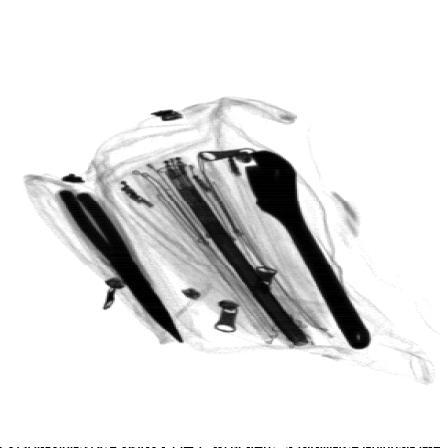Pliers: (57, 191, 187, 344)
Wrench: (245, 150, 375, 350)
